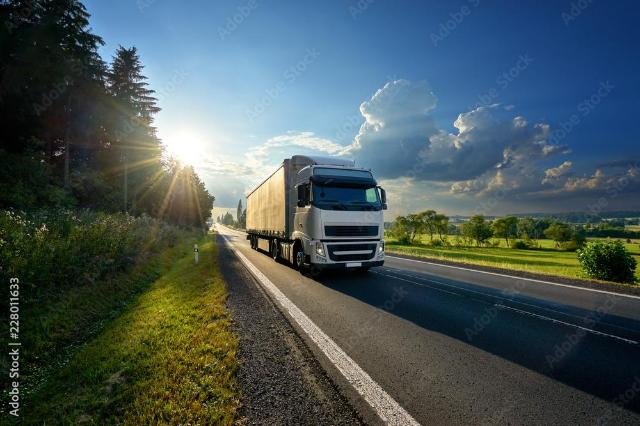truck: (251, 153, 391, 274)
